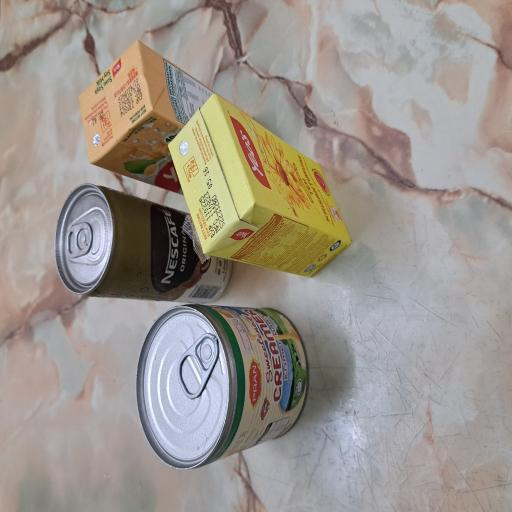can: (32, 178, 156, 412), (157, 73, 247, 310)
drink carton: (174, 222, 314, 471), (237, 103, 355, 283)
pop tab: (85, 237, 134, 292), (191, 88, 218, 123)
